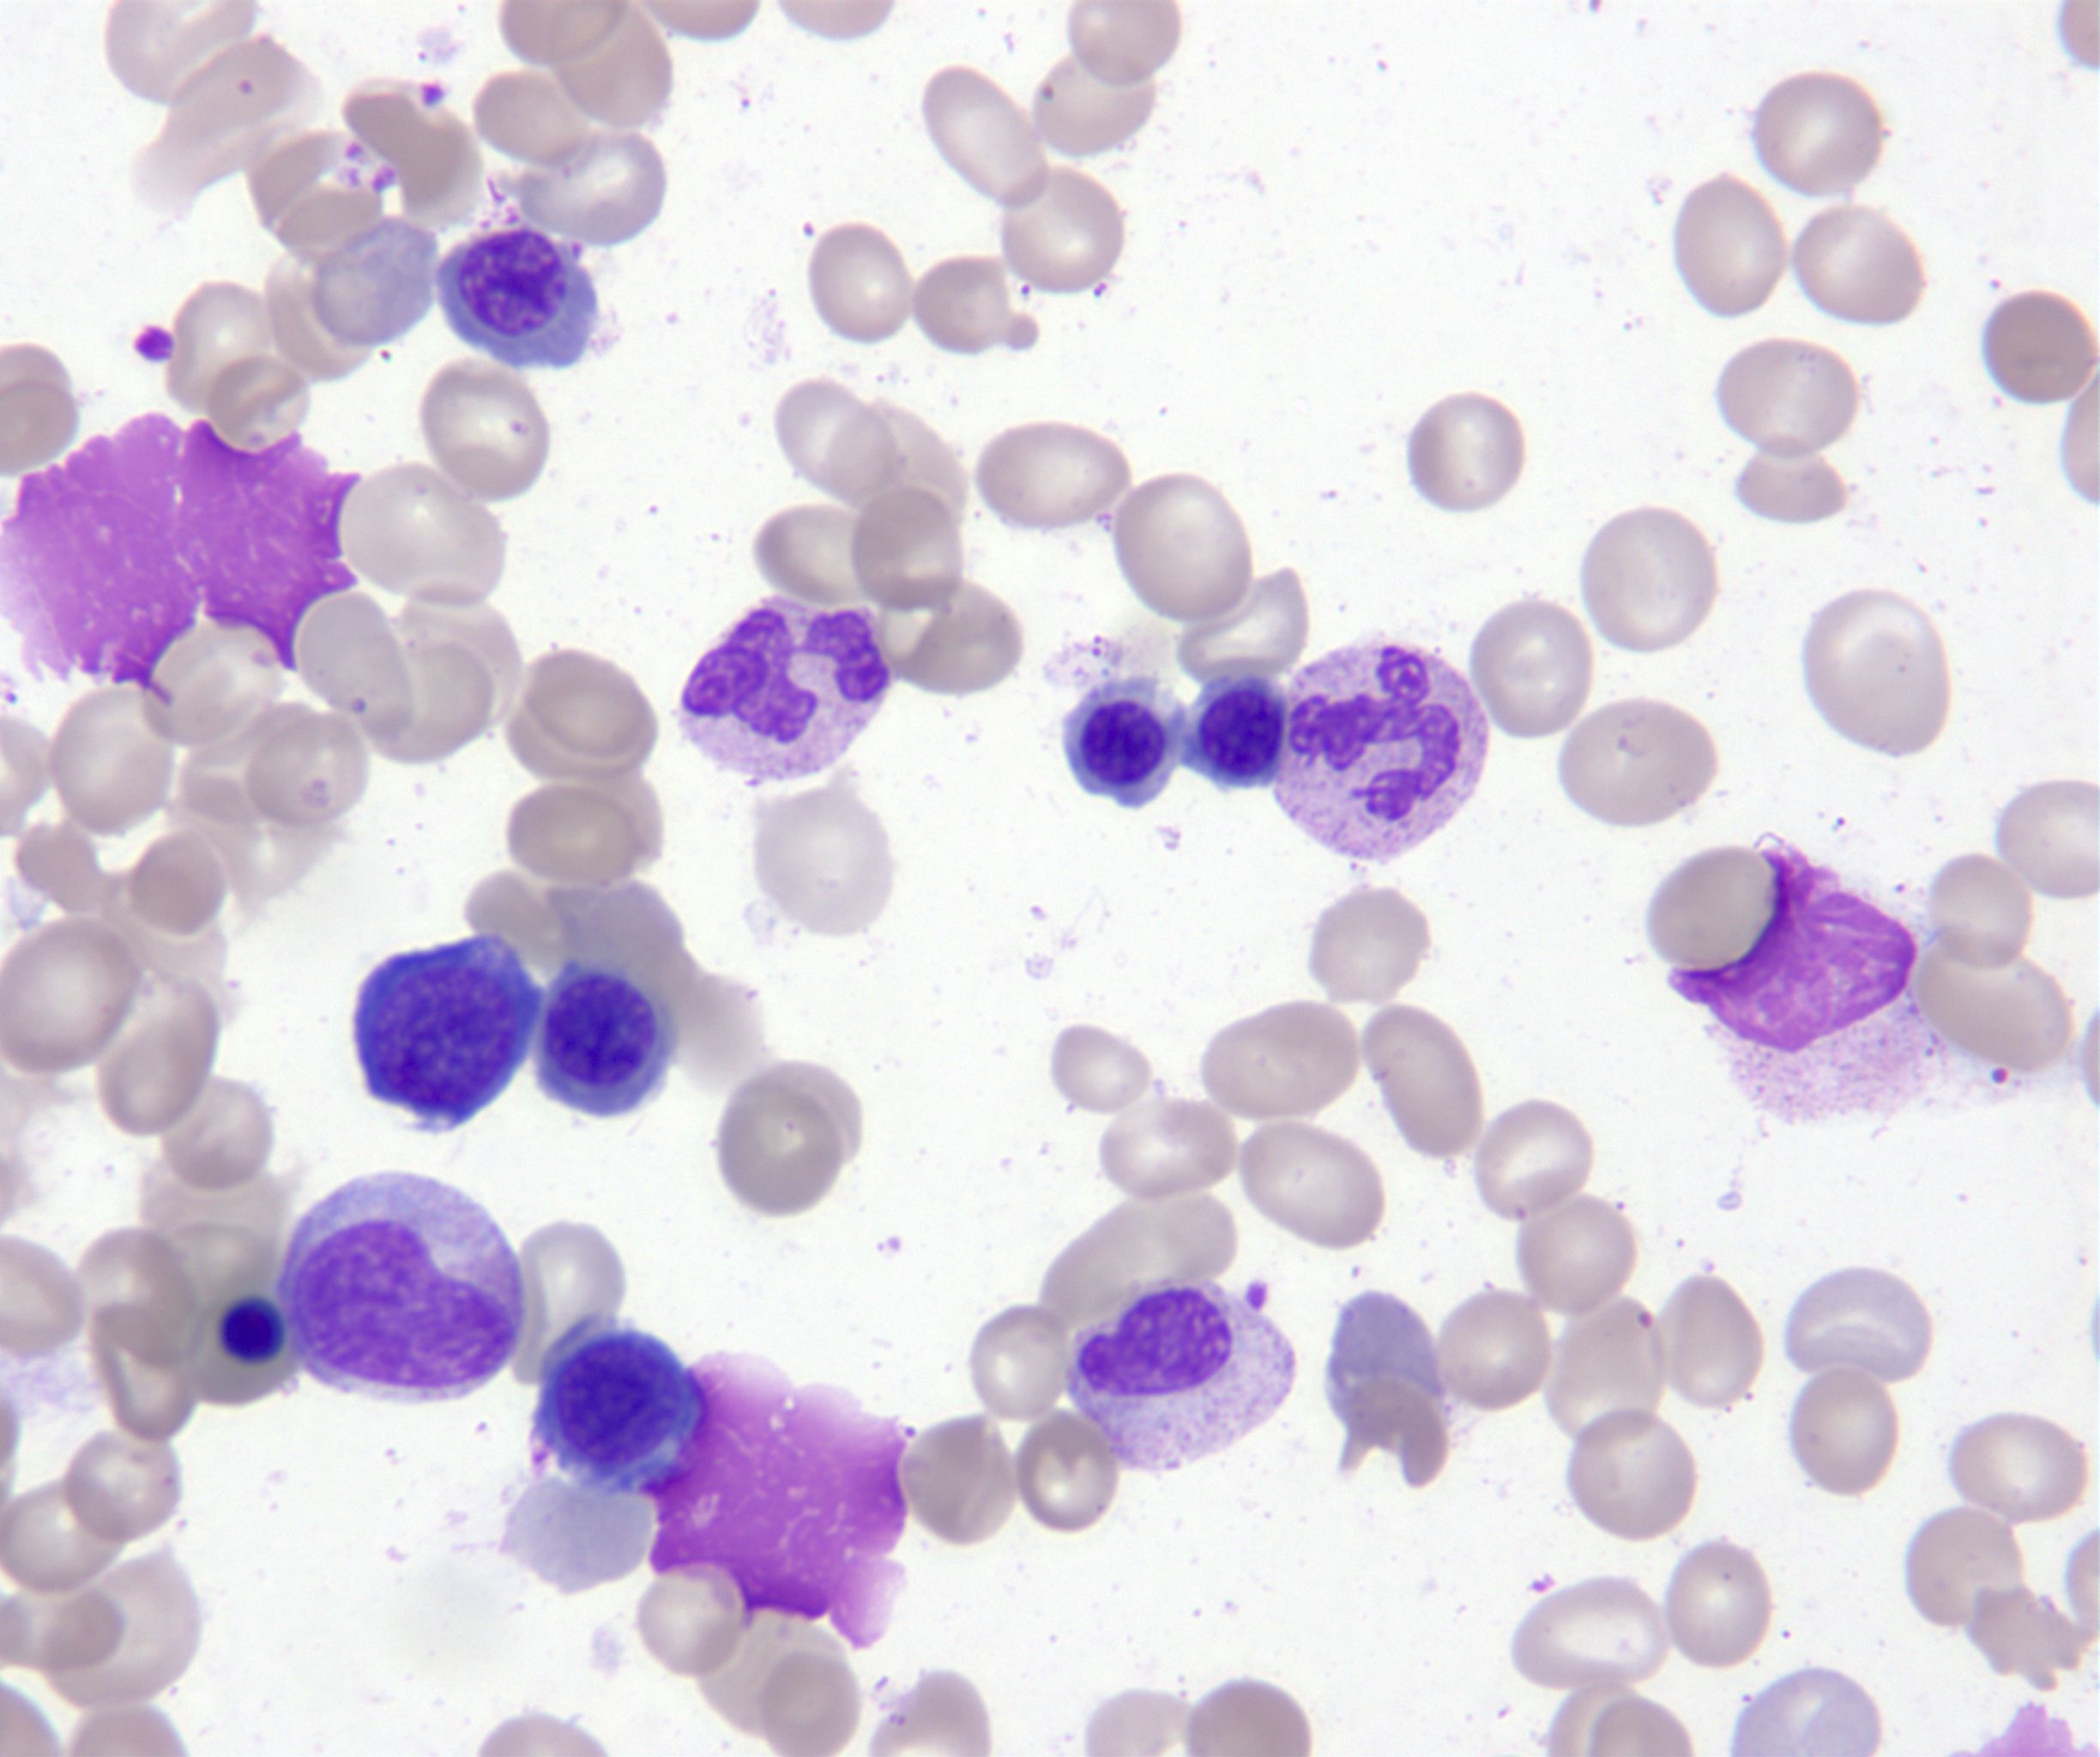23: (356, 935, 542, 1131), (528, 1316, 706, 1488)
24: (434, 220, 597, 365), (537, 965, 675, 1118), (1060, 680, 1184, 808), (1167, 668, 1292, 790), (218, 1296, 284, 1364)
3: (279, 1174, 522, 1405)
5: (1066, 1282, 1298, 1469)
6: (1272, 639, 1486, 860), (675, 595, 891, 778)
x: (644, 1354, 910, 1647), (1671, 839, 1933, 1118), (5, 414, 202, 708), (171, 415, 363, 672)
